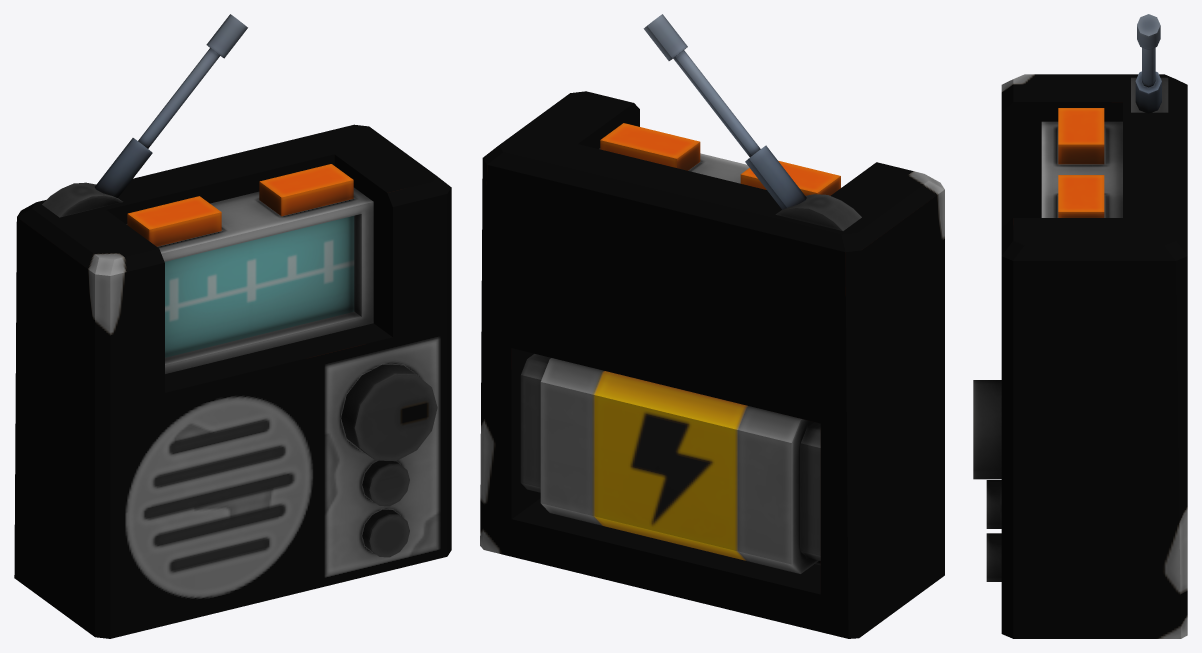
File: obj_interactive_radio_off.fbx
3 renders of one model, left to right at view 1: azimuth 30°, elevation 25°; view 2: azimuth 150°, elevation 25°; view 3: azimuth 270°, elevation 25°, orthographic. The views are drawn at different scales.
Parts seen in each view (by area): view 1: obj_interactive_radio_off_lod0; view 2: obj_interactive_radio_off_lod0; view 3: obj_interactive_radio_off_lod0.
Part boxes in pixels (<box>): obj_interactive_radio_off_lod0: <box>14,14,451,638</box>; obj_interactive_radio_off_lod0: <box>480,14,944,638</box>; obj_interactive_radio_off_lod0: <box>973,14,1187,638</box>.
Size of the model in its own units: 2 by 2.82 by 1.
1 material, 1 textured.
